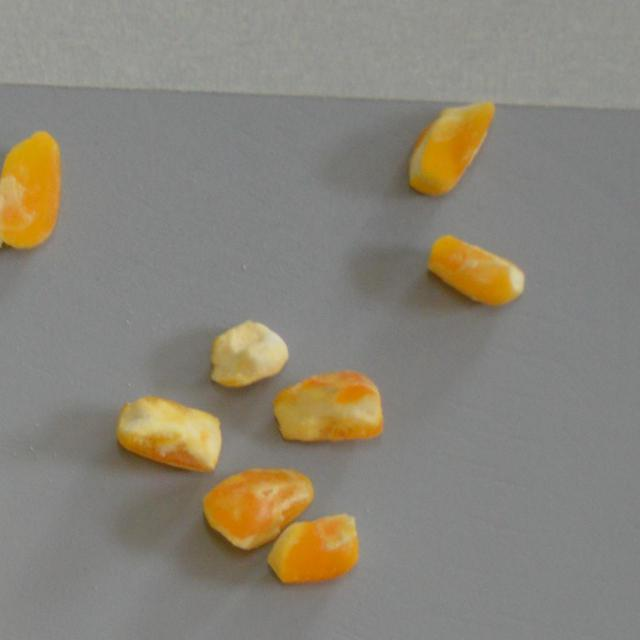estandar: (206, 310, 290, 389)
pelicula: (398, 62, 502, 221), (0, 112, 79, 272), (196, 458, 316, 551), (114, 390, 224, 474), (272, 366, 384, 445), (422, 234, 526, 312), (265, 514, 368, 592)
